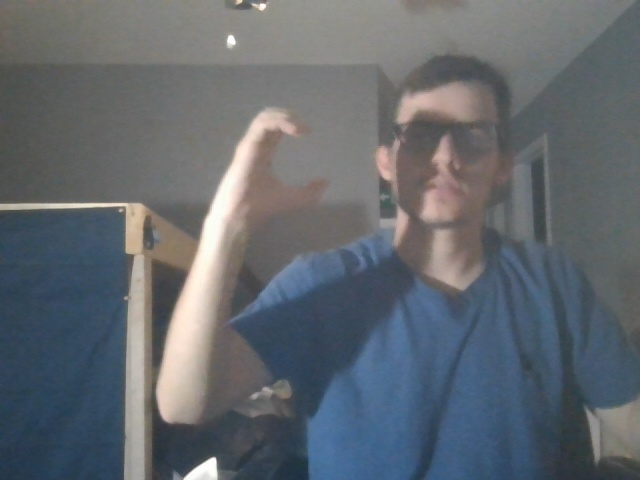C: (226, 99, 350, 235)
